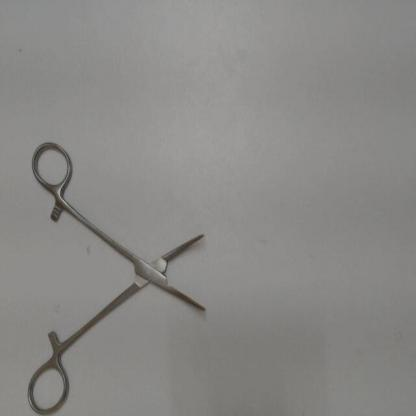Crile Artery Forceps: (24, 136, 214, 416)
